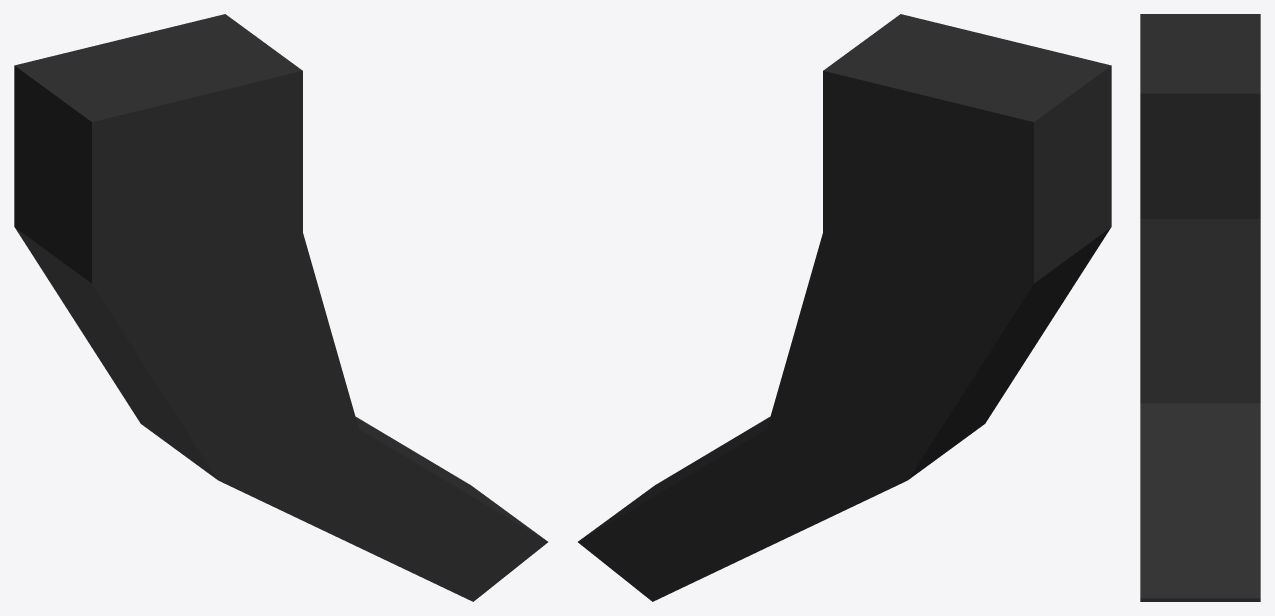
Rendered from AssaultRifle1_04_2.fbx.
3 views of the same model, side by side, from view 1: azimuth 30°, elevation 25°; view 2: azimuth 150°, elevation 25°; view 3: azimuth 270°, elevation 25° (orthographic). The views are drawn at different scales.
Visible parts, largest first — view 1: AssaultRifle1_04_2; view 2: AssaultRifle1_04_2; view 3: AssaultRifle1_04_2.
Boxes of the visible parts, box(x1,y1,x2,y2) form: AssaultRifle1_04_2: box(14, 14, 547, 601); AssaultRifle1_04_2: box(578, 14, 1111, 601); AssaultRifle1_04_2: box(1140, 14, 1260, 601).
Bounding box in the file's own units: 0.0247 × 0.0296 × 0.00727.
